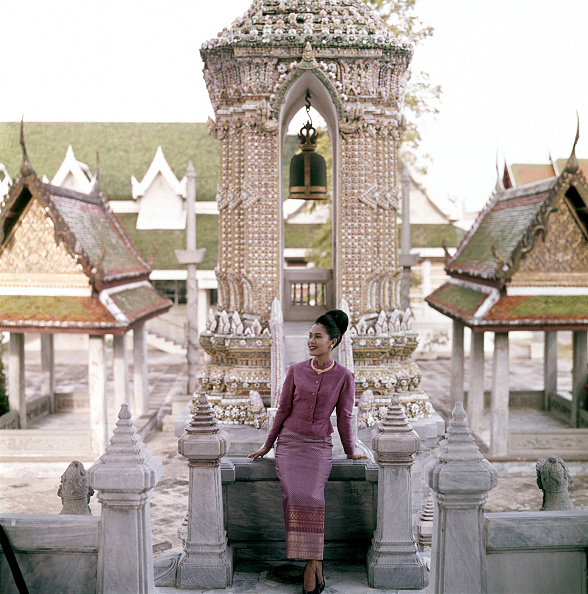em pe: (258, 317, 353, 590)
